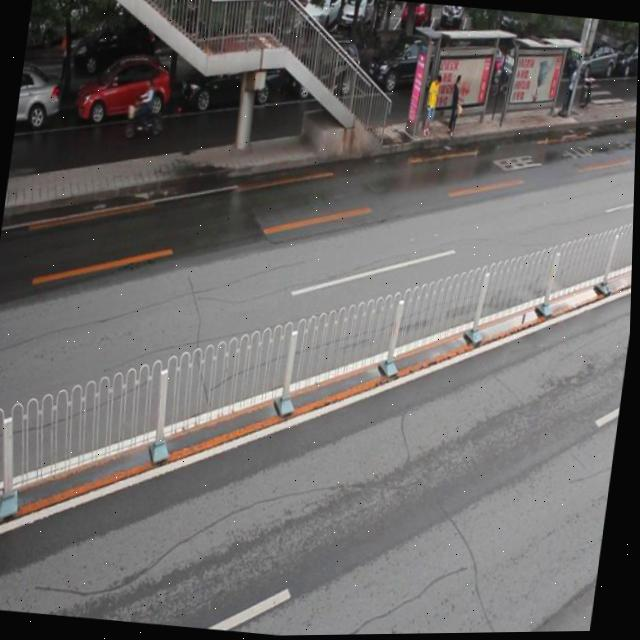car: (178, 48, 285, 119), (76, 55, 174, 125), (286, 36, 365, 108), (362, 35, 446, 101), (15, 65, 65, 130)
